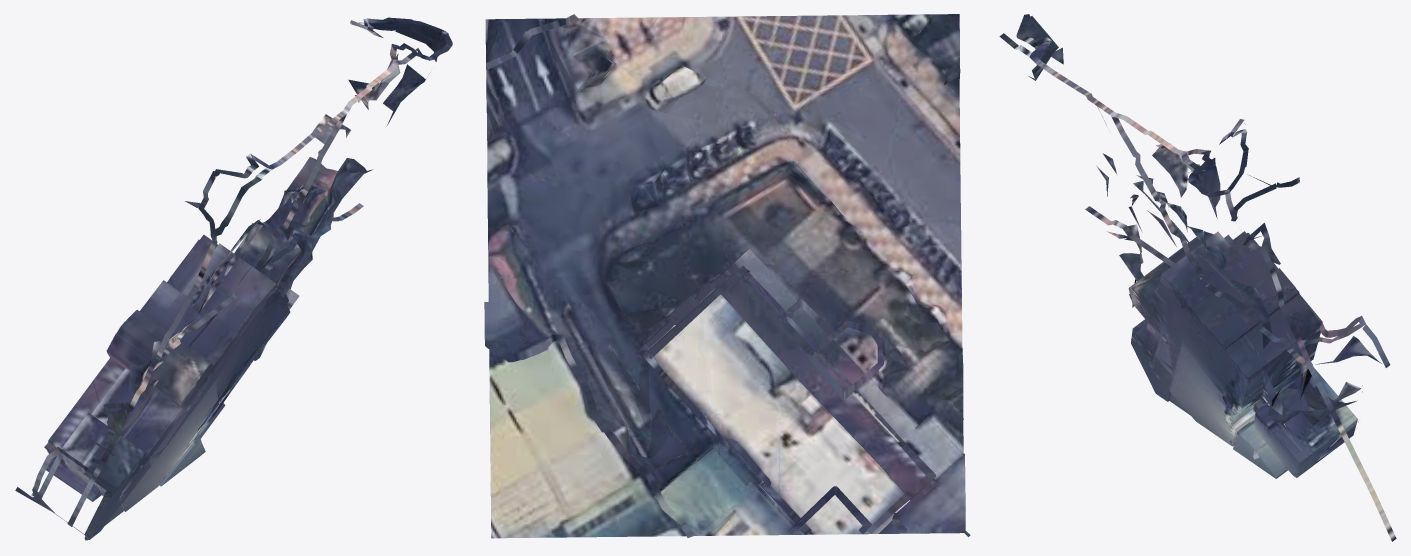
3 views of the same model, side by side, from view 1: azimuth 30°, elevation 25°; view 2: azimuth 150°, elevation 25°; view 3: azimuth 270°, elevation 25° (orthographic). The views are drawn at different scales.
Bounding box in the file's own units: 41.4 × 38.1 × 31.81.
1 material, 1 textured.
